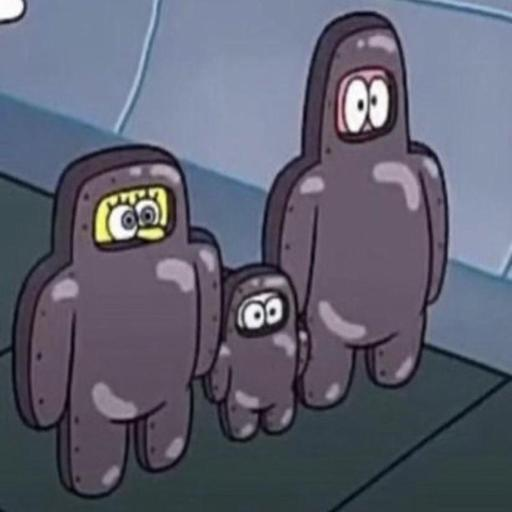Crewmate: (257, 10, 449, 412), (10, 143, 228, 492), (210, 251, 317, 443)
